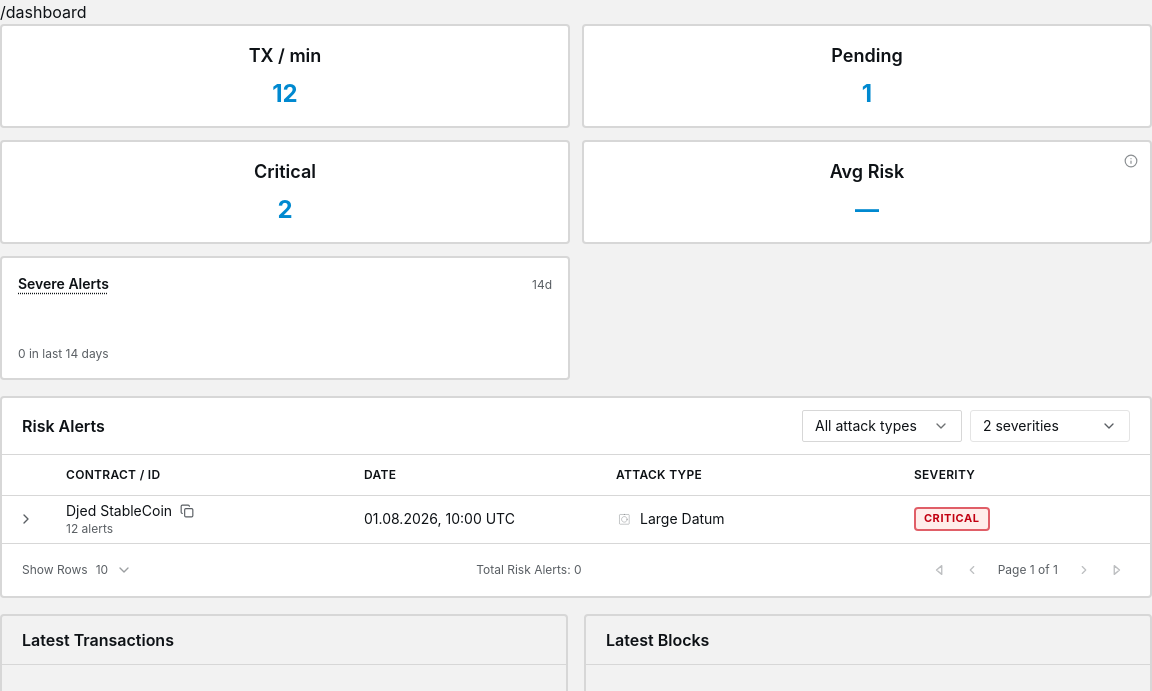
Test: contract grouping › lists the contract's transactions when expanded
The image size is (1152, 691).
Expected: the text "BBBBBBBB" is not shown
Click the text "Djed StableCoin": (119, 511) [66, 501, 172, 521]
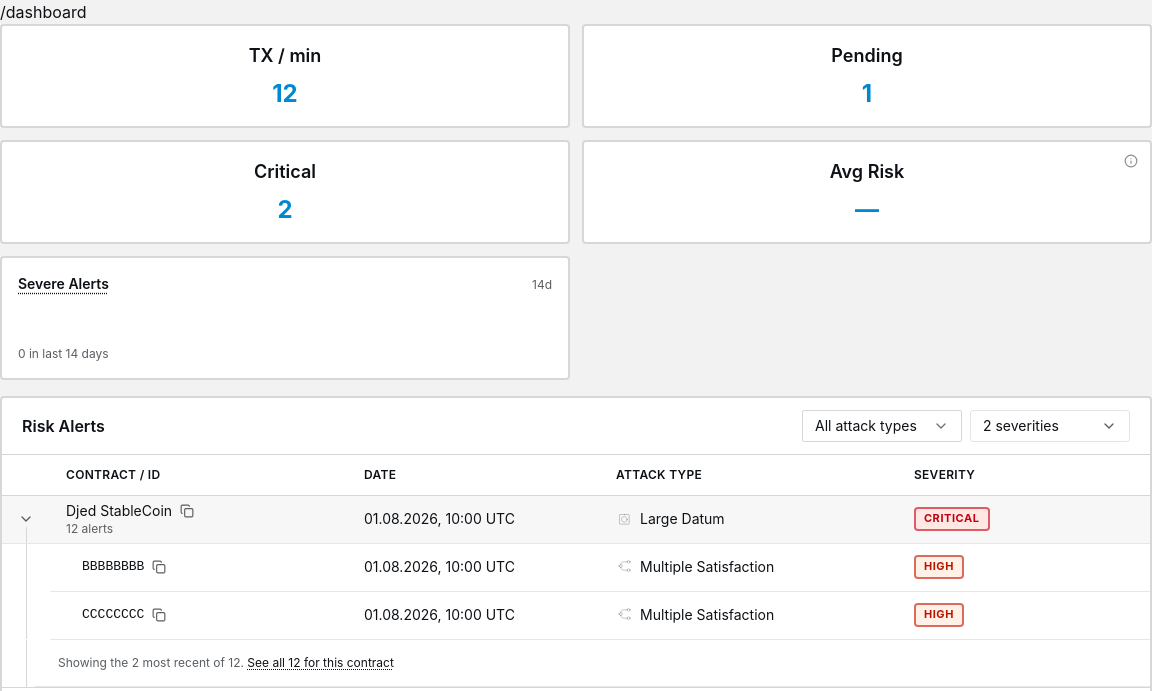
Expected: the text "BBBBBBBB" is shown, [82, 558, 144, 576]
Expected: the text "CCCCCCCC" is shown, [82, 606, 144, 624]
